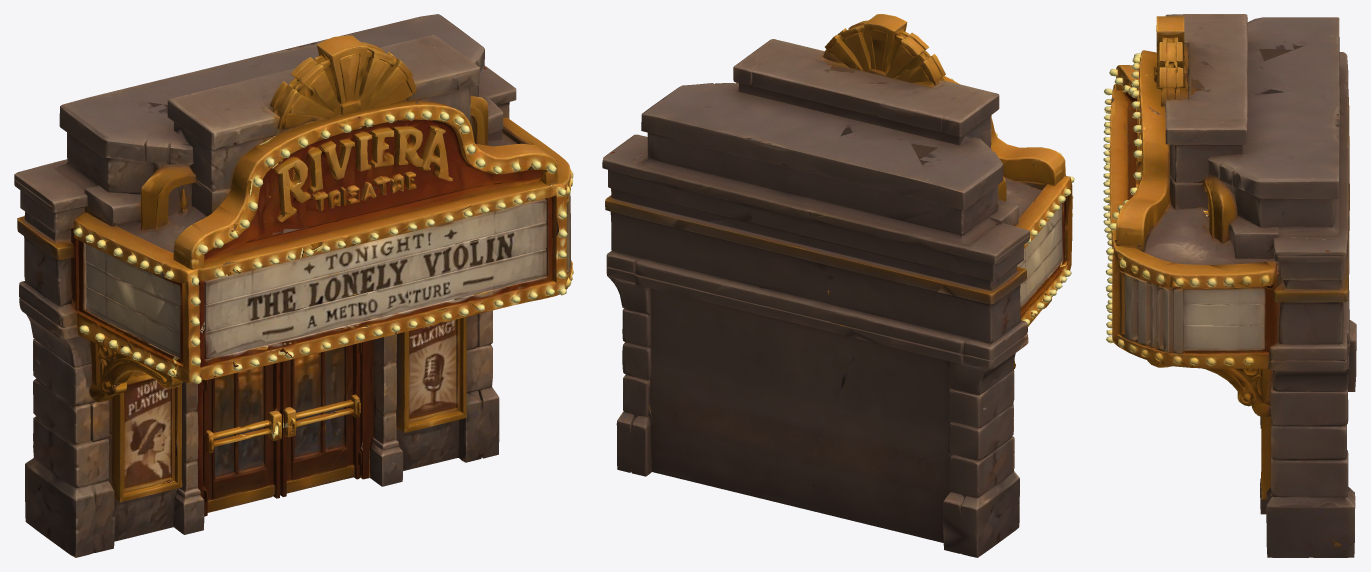
Rendered from theater-facade-riviera.glb.
3 renders of one model, left to right at view 1: azimuth 30°, elevation 25°; view 2: azimuth 150°, elevation 25°; view 3: azimuth 270°, elevation 25°, orthographic. The views are drawn at different scales.
Parts seen in each view (by area): view 1: SM_TheaterFacadeRiviera; view 2: SM_TheaterFacadeRiviera; view 3: SM_TheaterFacadeRiviera.
Boxes of the visible parts, <box> form: SM_TheaterFacadeRiviera: <box>14,14,573,557</box>; SM_TheaterFacadeRiviera: <box>602,14,1074,557</box>; SM_TheaterFacadeRiviera: <box>1103,14,1356,557</box>.
Size of the model in its own units: 8.69 by 9 by 4.64.
1 material, 1 textured.
